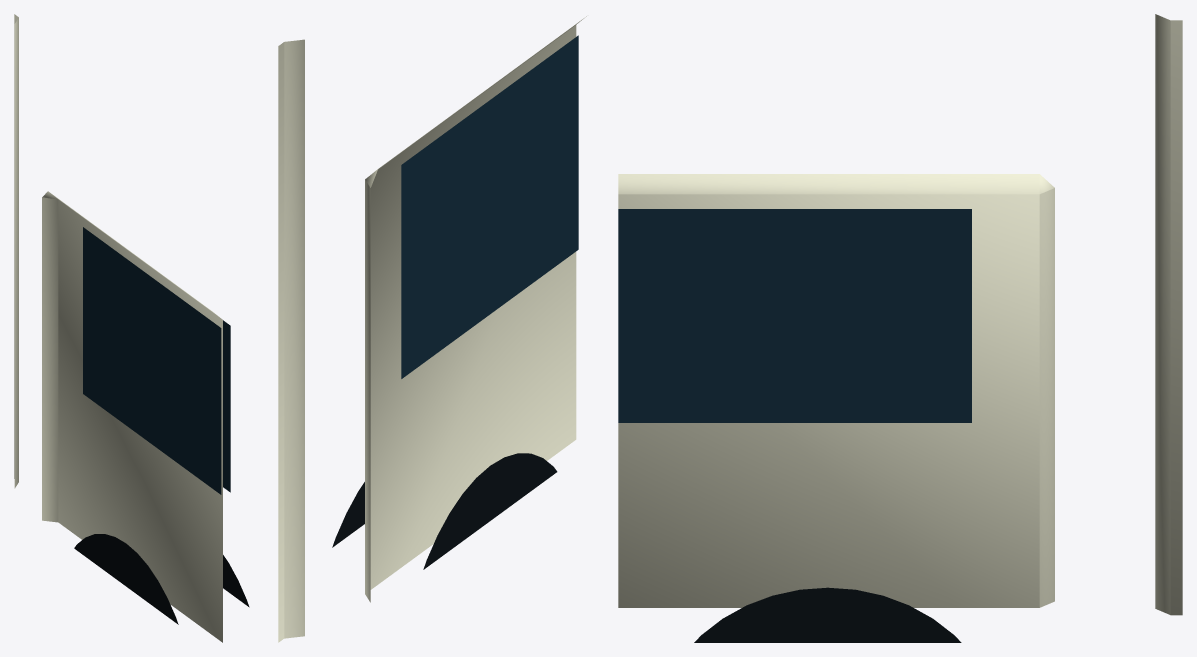
File: ambulance-right.glb
3 renders of one model, left to right at view 1: azimuth 30°, elevation 25°; view 2: azimuth 150°, elevation 25°; view 3: azimuth 270°, elevation 25°, orthographic. The views are drawn at different scales.
Bounding box in the file's own units: 0.24 × 1.5 × 1.29.
Materials: 1 (1 with a texture image).
